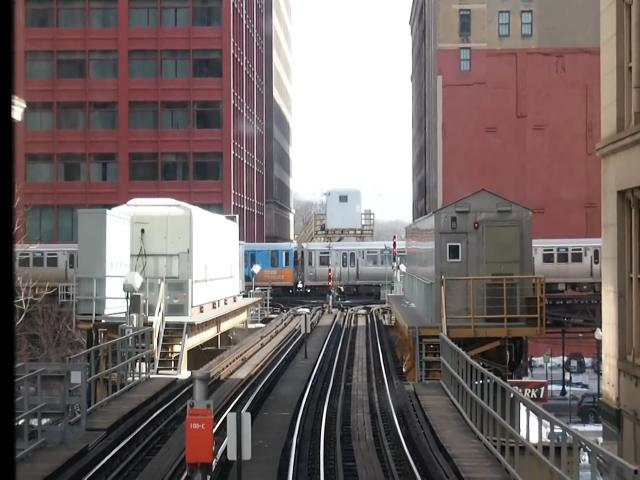signal light: (328, 266, 335, 300), (394, 234, 399, 266)
